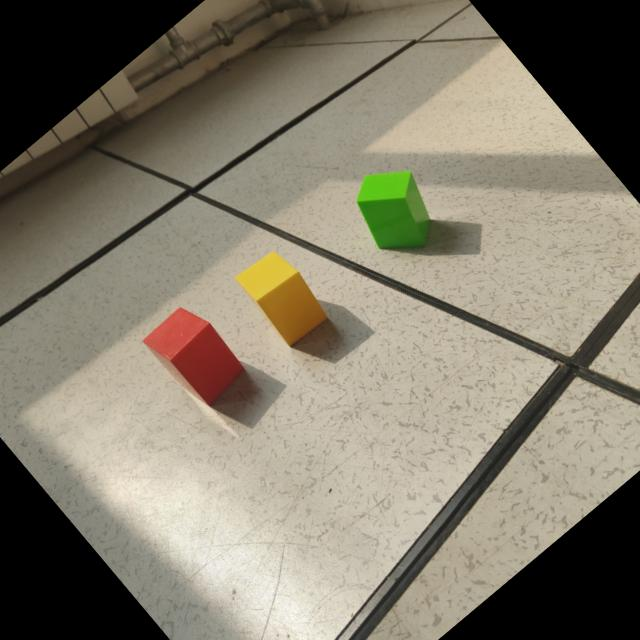green: (357, 170, 433, 253)
red: (144, 307, 247, 406)
yellow: (237, 253, 329, 346)
